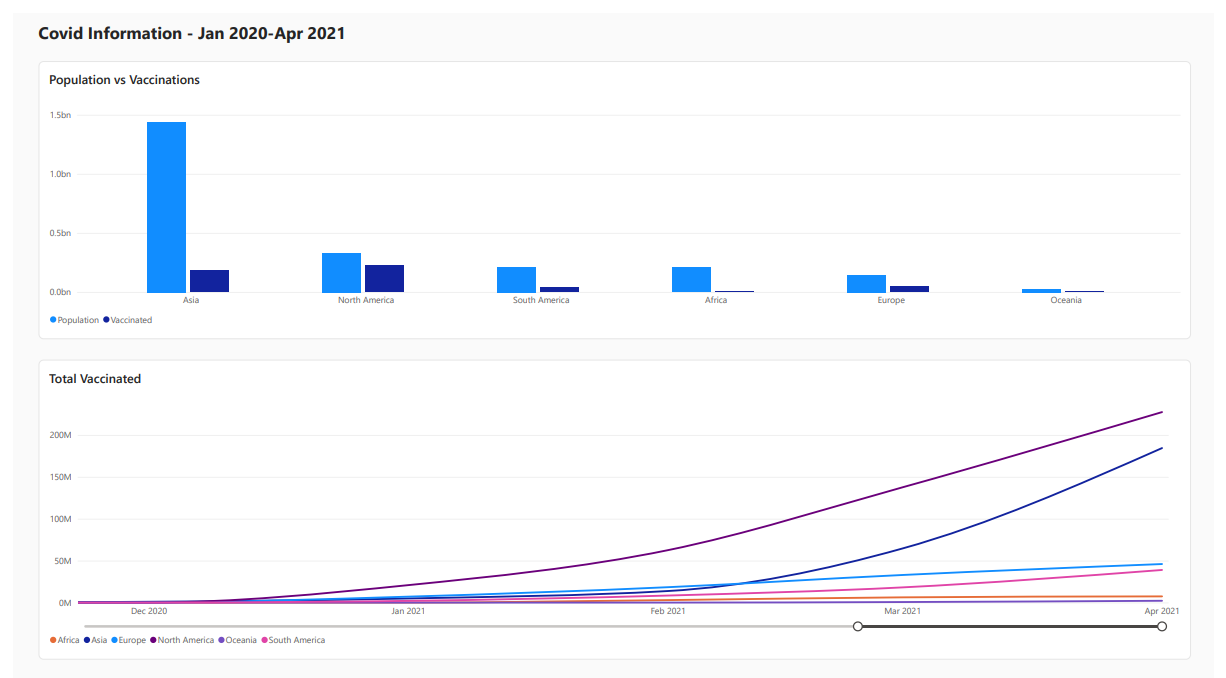

Layout of this report page (visuals, bound fields, positions):
{"tool":"powerbi","page":{"name":"Vaccination","canvas":[1920,1080],"ordinal":2},"visuals":[{"type":"clusteredColumnChart","title":"Population vs Vaccinations","fields":{"Category":["public percentpopulationvaccinated.continent"],"Y":["Max(public percentpopulationvaccinated.population)","public percentpopulationvaccinated.total_vaccinated"]},"box":[40.6,77.1,1842.9,443.5],"z":0},{"type":"lineChart","title":"Total Vaccinated","fields":{"Category":["public percentpopulationvaccinated.Start of Month.Variation.Date Hierarchy.Year","public percentpopulationvaccinated.Start of Month.Variation.Date Hierarchy.Quarter","public percentpopulationvaccinated.Start of Month.Variation.Date Hierarchy.Month","public percentpopulationvaccinated.Start of Month.Variation.Date Hierarchy.Day"],"Series":["public percentpopulationvaccinated.continent"],"Y":["public percentpopulationvaccinated.total_vaccinated"]},"box":[40.6,554.4,1842.9,478.6],"z":1000},{"type":"textbox","box":[40.6,12.2,678.8,39.2],"z":1001}]}

Visuals, with their boxes in screenshot pixels (x1, y1, x2, y2), scaled from the page's 1920x1080 canvas onto the 1226x678 screenshot:
"Population vs Vaccinations" clusteredColumnChart: bbox=[26, 48, 1203, 327]
"Total Vaccinated" lineChart: bbox=[26, 348, 1203, 648]
textbox: bbox=[26, 8, 459, 32]
